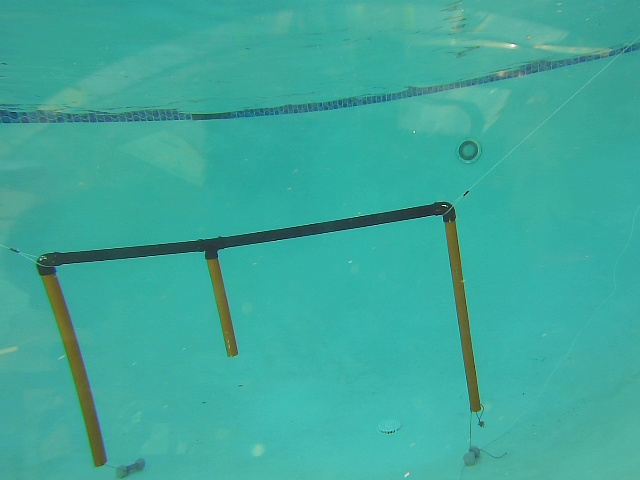Gate: (34, 265, 113, 472), (442, 218, 482, 419), (207, 251, 238, 362)
